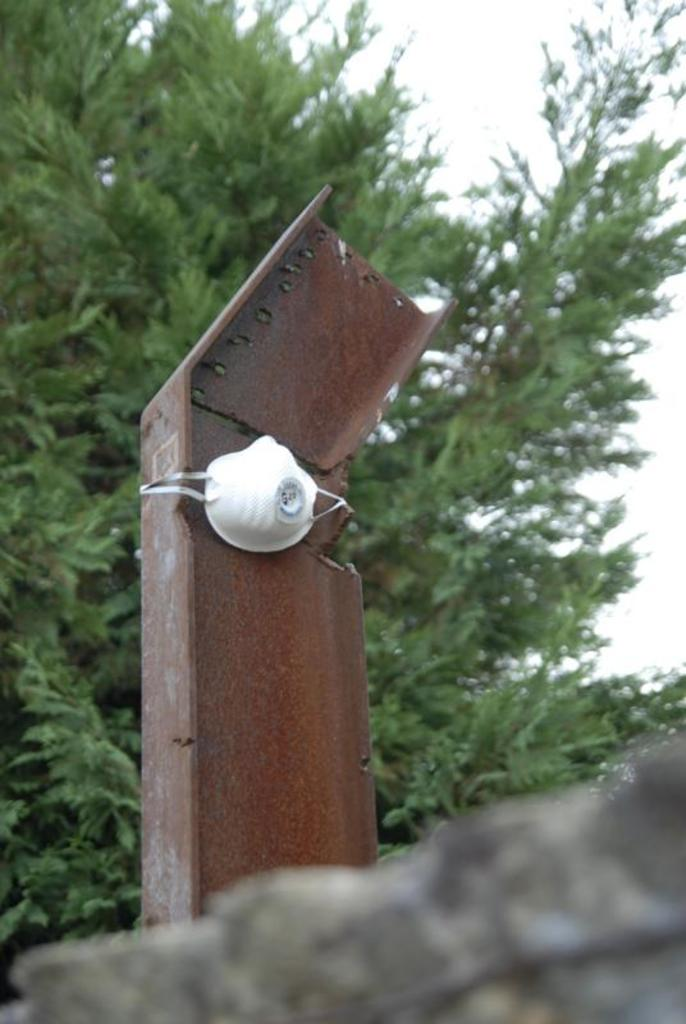Tree: (0, 0, 685, 949)
